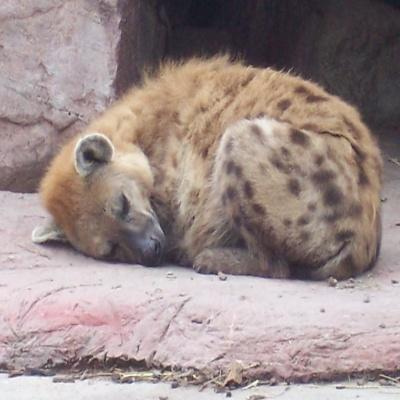hyenas: (18, 46, 400, 299)
